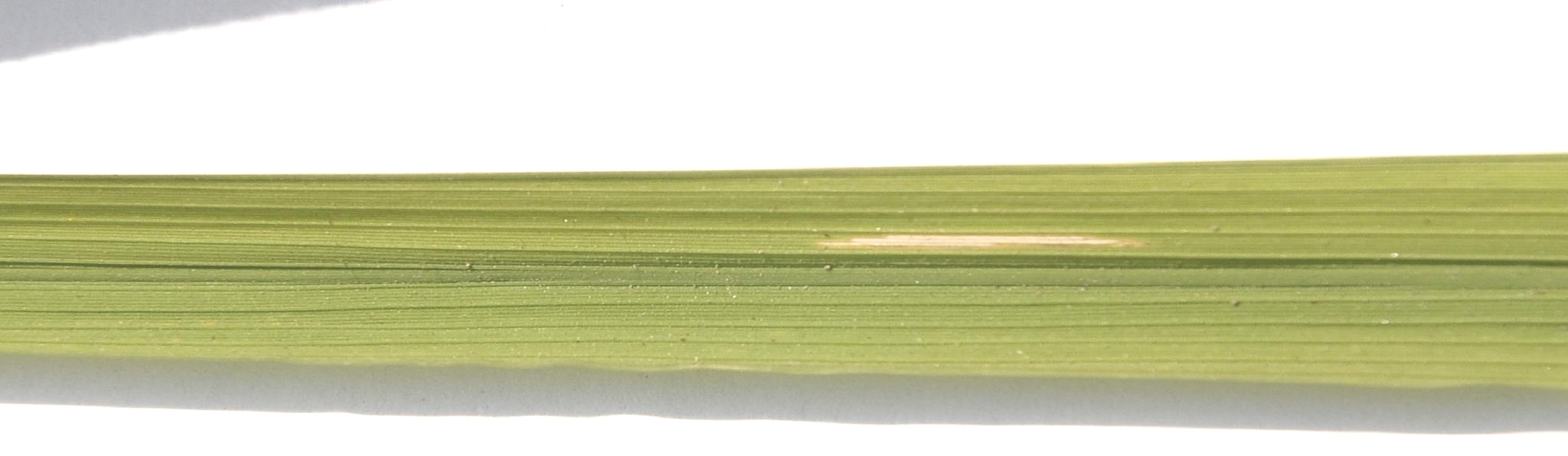Leaf_Blast: (596, 194, 1266, 309)
